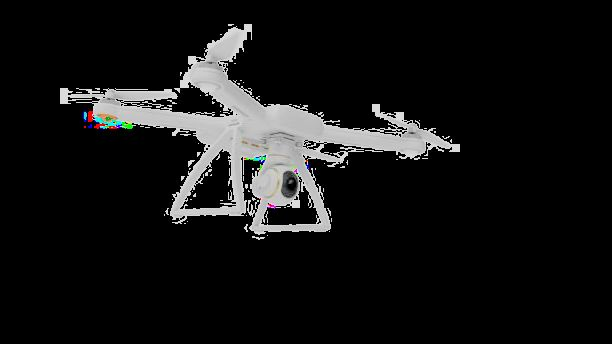Drone: (59, 22, 459, 242)
